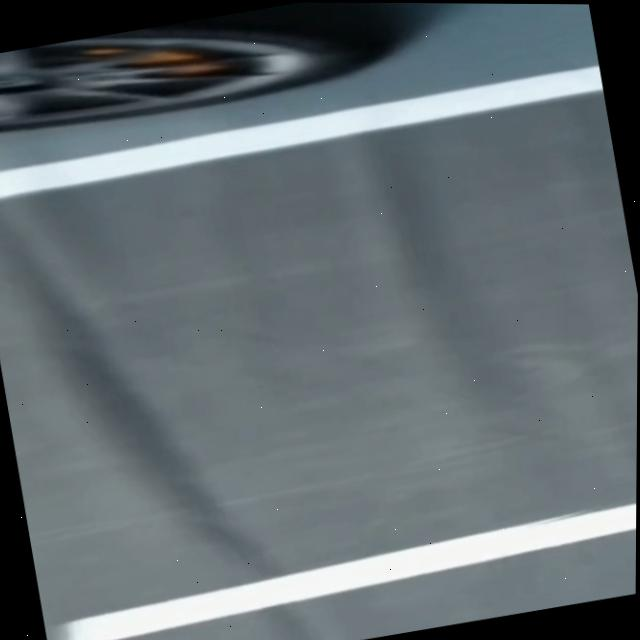center: (59, 500, 636, 640)
left: (0, 65, 603, 197)
